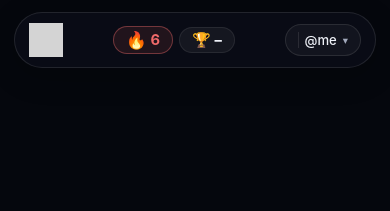
Scenario: Header streak popover portal › renders the popover outside the header, straight on document.body
Click the button with class "header-streak" showing "🔥 6" at (143, 40), box [113,26,173,54]
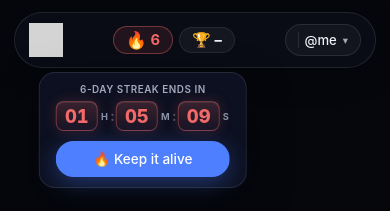
Result: the message "6-day streak ends in 01 h : 05 m : 09 s 🔥 Keep it alive" is shown at [39,72,247,188]
Result: the message with class "streak-popover" shows "streak ends in" at [80,83,206,95]
